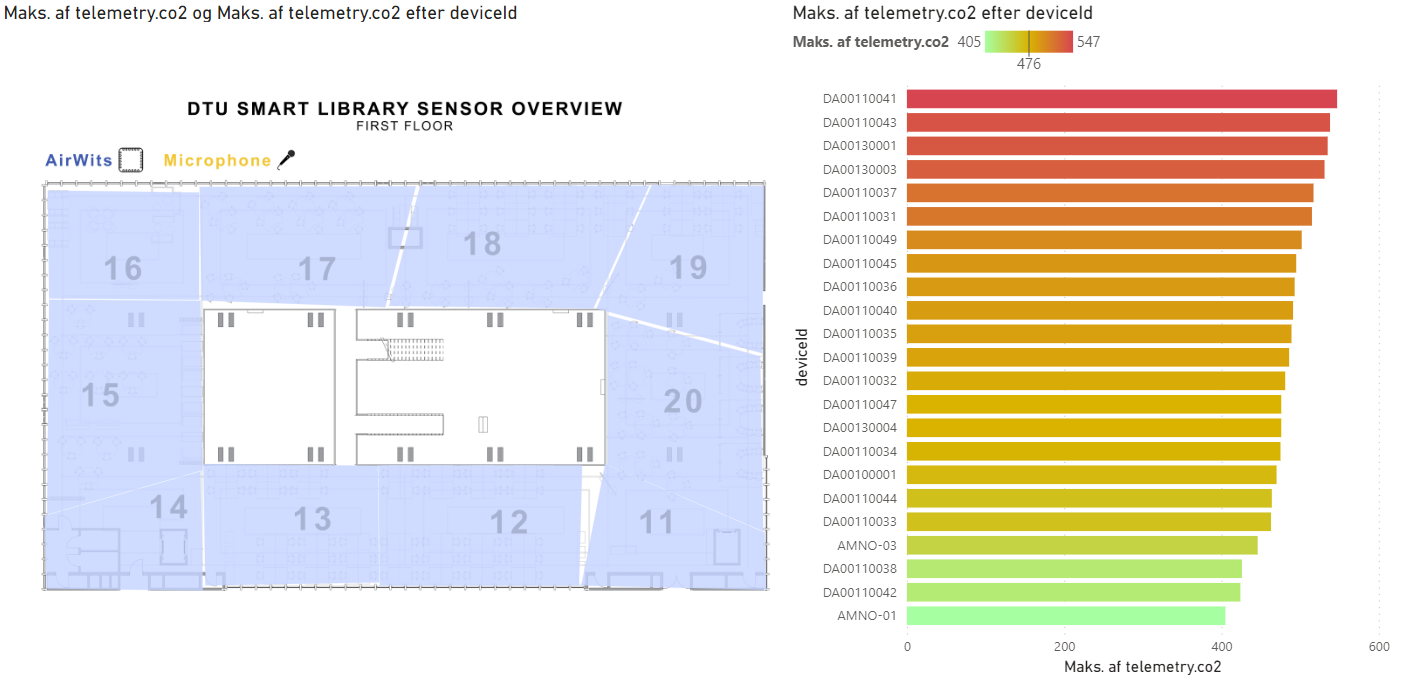

Layout of this report page (visuals, bound fields, positions):
{"tool":"powerbi","page":{"name":"Side 1","canvas":[1280,720],"ordinal":0},"visuals":[{"type":"PBI_CV_815282F9_27F5_4950_9430_E910E0A8DB6A","fields":{"Category":["Maks  af telemetry co2 efter de.deviceId"],"State":["Sum(Maks  af telemetry co2 efter de.Level)"],"Y":["Sum(Maks  af telemetry co2 efter de.CO2 måling)"]},"box":[0,42.5,717.5,617.5],"z":0},{"type":"clusteredBarChart","fields":{"Category":["Maks  af telemetry co2 efter de.deviceId"],"Y":["Sum(Maks  af telemetry co2 efter de.Maks. af telemetry.co2)"]},"box":[717,43,553,618],"z":1000}]}

Visuals, with their boxes on the page's 1280x720 design canvas (x1, y1, x2, y2). These are canvas units, not pixel positions in the 1401x687 screenshot, which may show the page scaled, cropped or inside an application window:
PBI_CV_815282F9_27F5_4950_9430_E910E0A8DB6A - Maks  af telemetry co2 efter de.deviceId x Sum(Maks  af telemetry co2 efter de.Level): bbox=[0, 42, 718, 660]
clusteredBarChart - Maks  af telemetry co2 efter de.deviceId x Sum(Maks  af telemetry co2 efter de.Maks. af telemetry.co2): bbox=[717, 43, 1270, 661]
